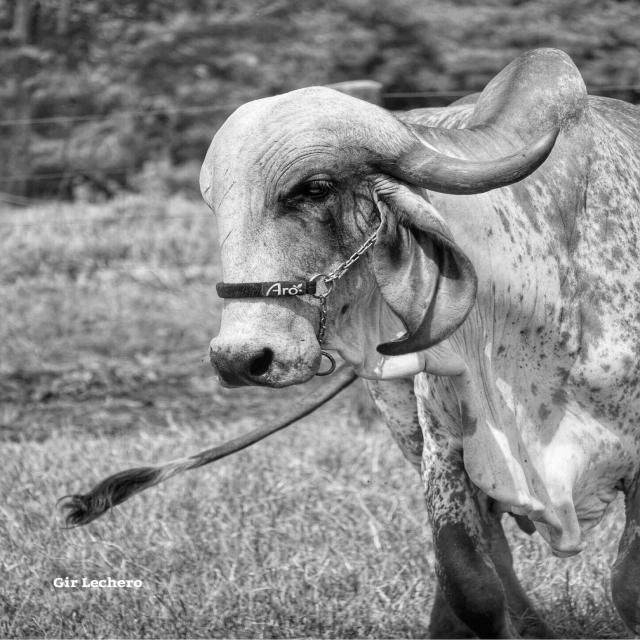Cow: (56, 46, 638, 638)
